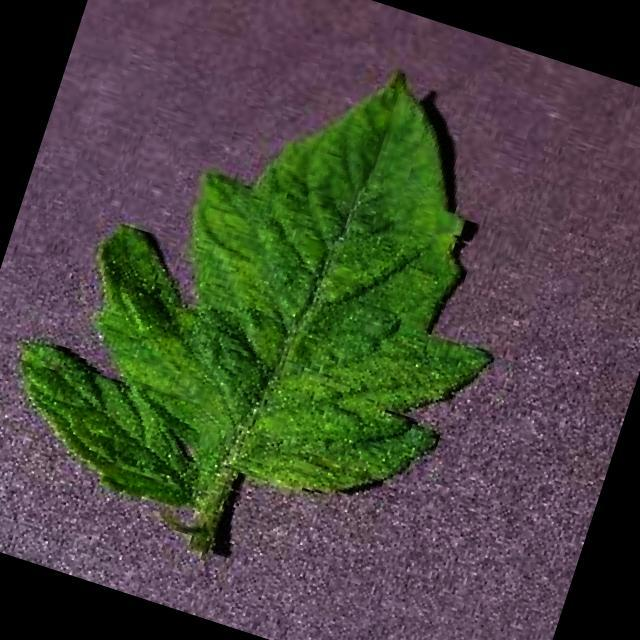Tomato mosaic virus leaf: (0, 0, 572, 591)
